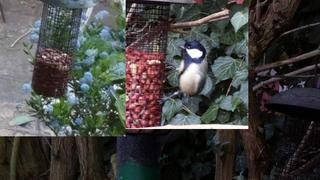great tit: (156, 40, 208, 105)
